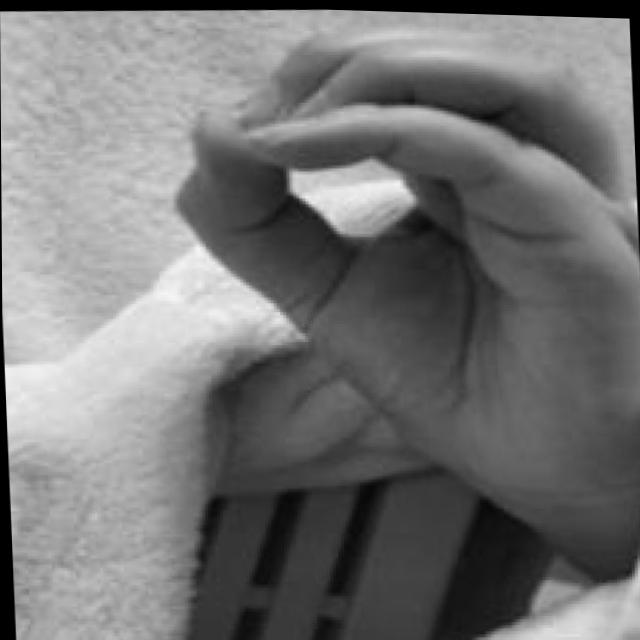O: (159, 5, 640, 577)
